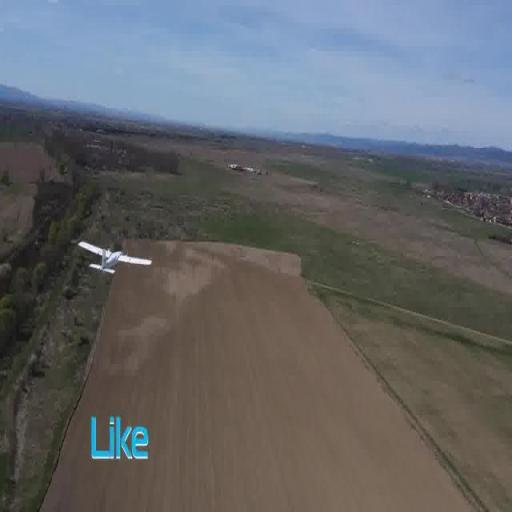uav: (76, 232, 156, 290)
